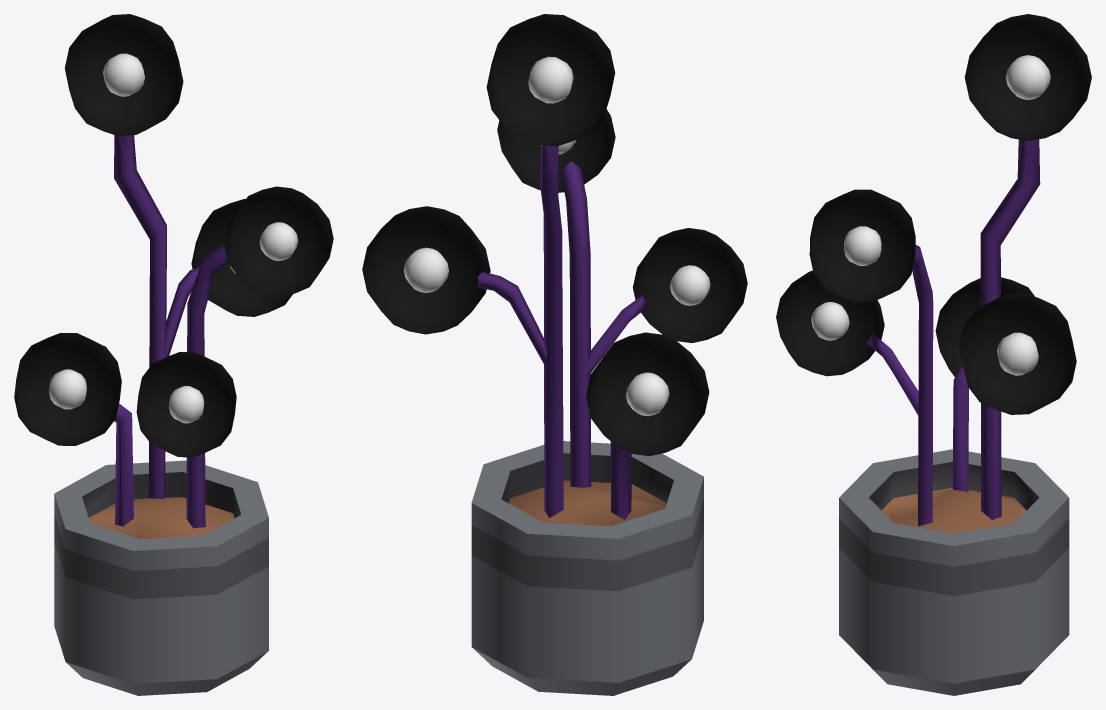
Rendered from Plant7.fbx.
3 views of the same model, side by side, from view 1: azimuth 30°, elevation 25°; view 2: azimuth 150°, elevation 25°; view 3: azimuth 270°, elevation 25° (orthographic). The views are drawn at different scales.
Parts seen in each view (by area): view 1: Plant7; view 2: Plant7; view 3: Plant7.
Boxes of the visible parts, x1,y1,x2,y2 form: Plant7: (14,14,333,695); Plant7: (362,14,747,695); Plant7: (776,14,1091,695).
Size of the model in its own units: 0.5778 by 1.17 by 0.5253.
